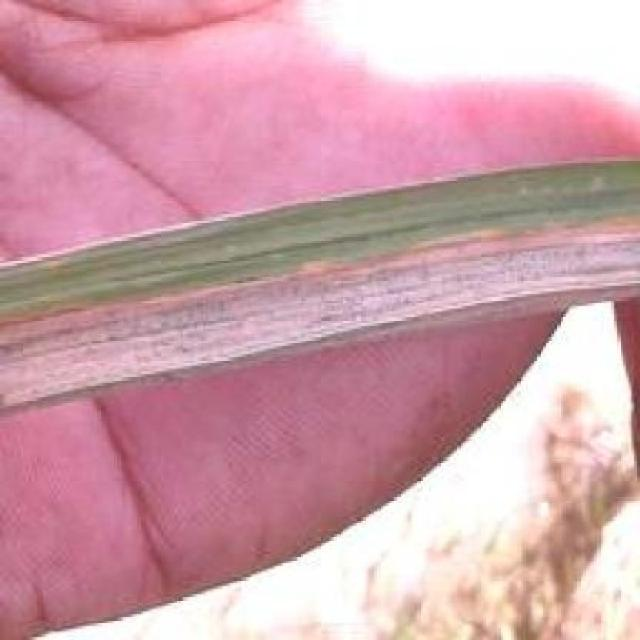Brown_Spot: (9, 234, 618, 366)
